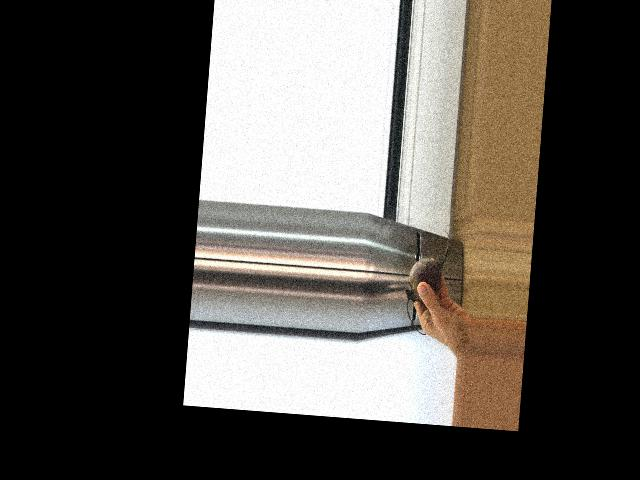beet: (402, 226, 450, 335)
